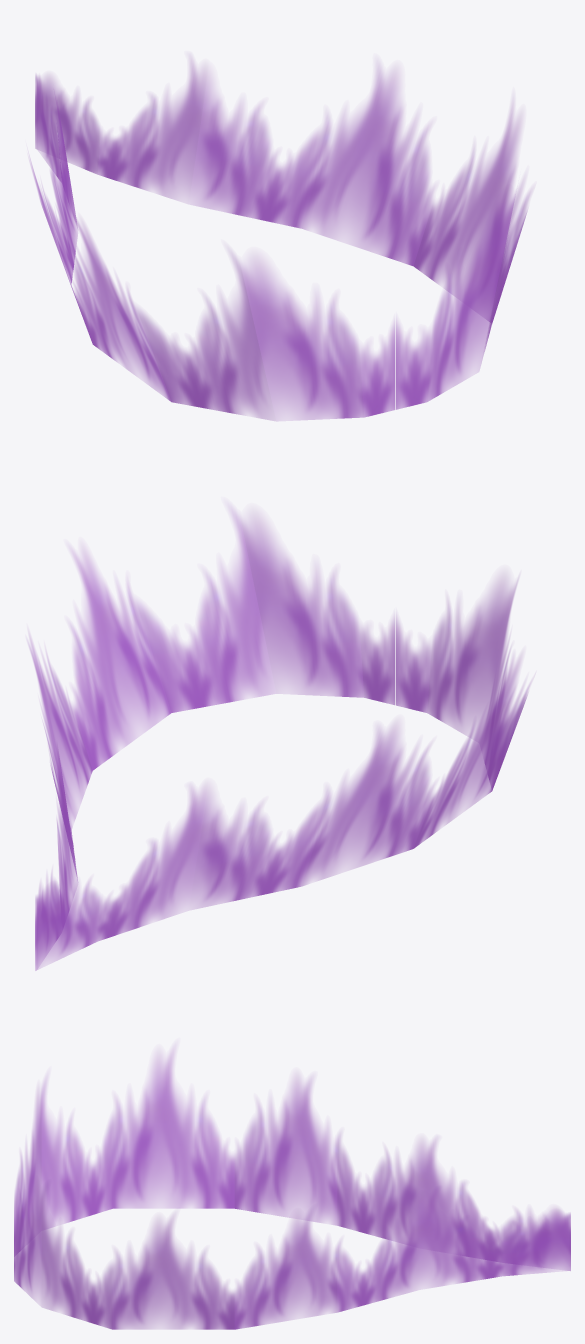
The model's file is dash_charge_fx.glb.
3 renders of one model, top to bottom at view 1: azimuth 30°, elevation 25°; view 2: azimuth 150°, elevation 25°; view 3: azimuth 270°, elevation 25°, orthographic. The views are drawn at different scales.
Parts seen in each view (by area): view 1: Plane; view 2: Plane; view 3: Plane.
Boxes of the visible parts, left/top/right/bottom form: Plane: left=29, top=57, right=531, bottom=420; Plane: left=28, top=507, right=531, bottom=970; Plane: left=14, top=1047, right=570, bottom=1329.
Size of the model in its own units: 1.95 by 0.909 by 2.54.
1 material, 1 textured.
